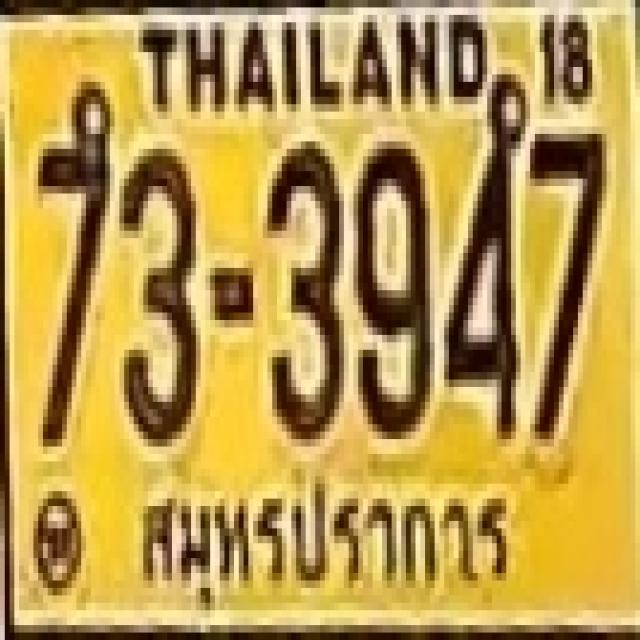3: (119, 141, 196, 439), (263, 138, 339, 435)
4: (439, 111, 516, 432)
7: (33, 112, 110, 439), (525, 126, 602, 432)
9: (351, 134, 428, 432)
SPK: (126, 460, 521, 623)
